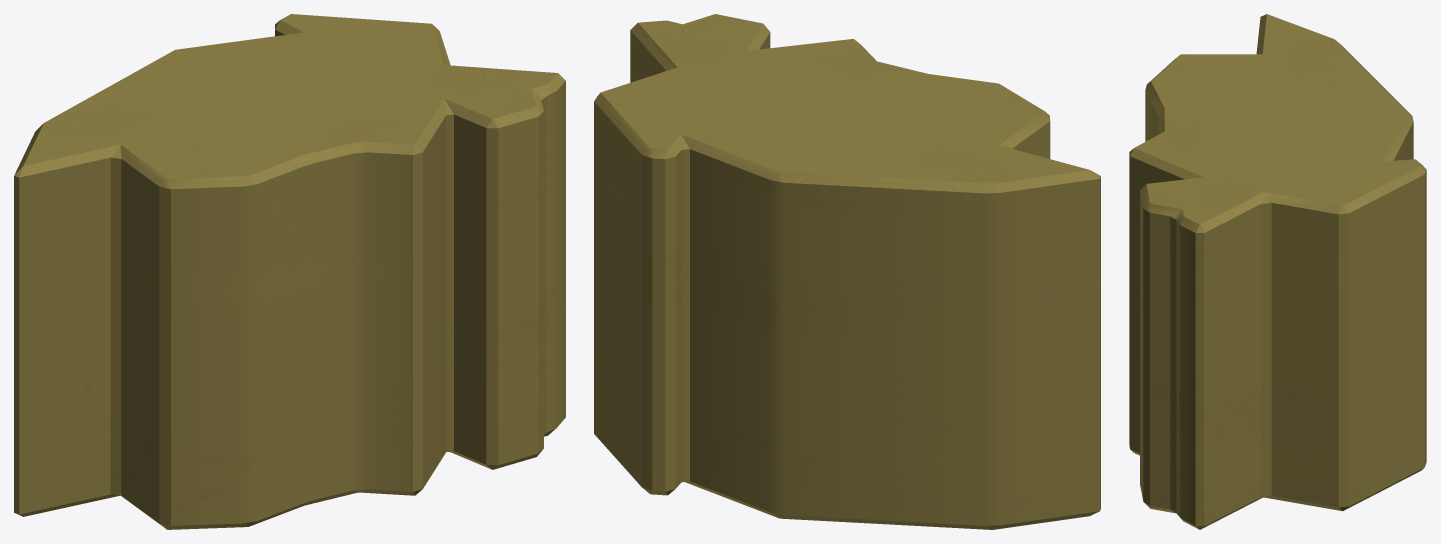
Rendered from switzerland.DAE.
The picture shows the model from 3 angles, left to right: view 1: azimuth 30°, elevation 25°; view 2: azimuth 150°, elevation 25°; view 3: azimuth 270°, elevation 25°; orthographic projection. The views are drawn at different scales.
Parts seen in each view (by area): view 1: Switzerland; view 2: Switzerland; view 3: Switzerland.
Boxes of the visible parts, bbox=[...] form: Switzerland: bbox=[14, 14, 565, 529]; Switzerland: bbox=[594, 14, 1100, 529]; Switzerland: bbox=[1129, 14, 1426, 529].
Size of the model in its own units: 38.14 by 22.06 by 25.
1 material, 1 textured.
